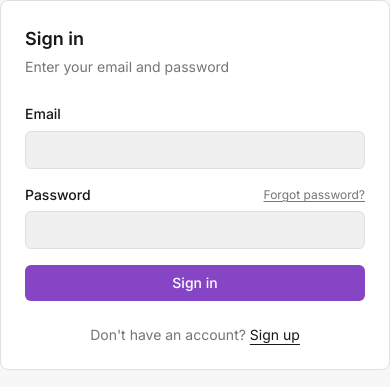
Scenario: LoginPage › shows "Signing in…" and disables button during submission
Type "test@example.com" into the field labelled "Email" at (195, 150), box [25,131,365,169]
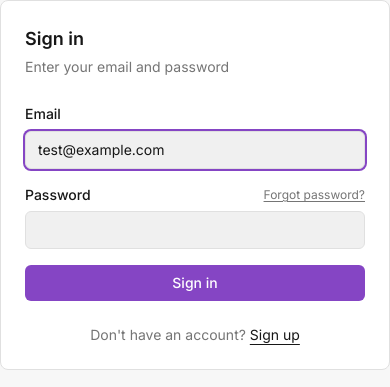
Type "password123" into the password field labelled "Password" at (195, 230), box [25,211,365,249]
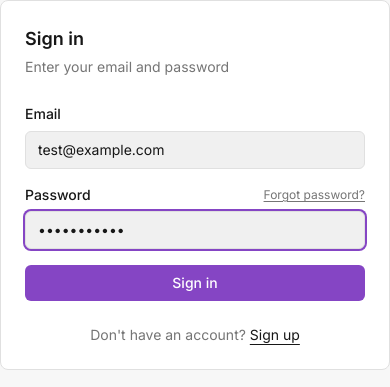
Click the button "Sign in" at (195, 283), box [25,265,365,301]
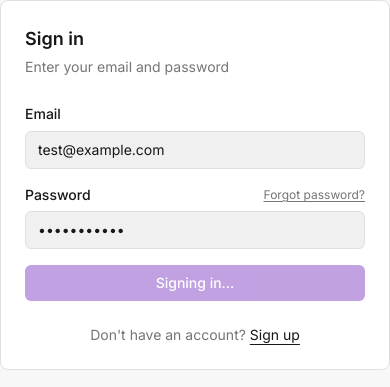
Result: the button "Signing in…" is disabled at [25,265,365,301]
